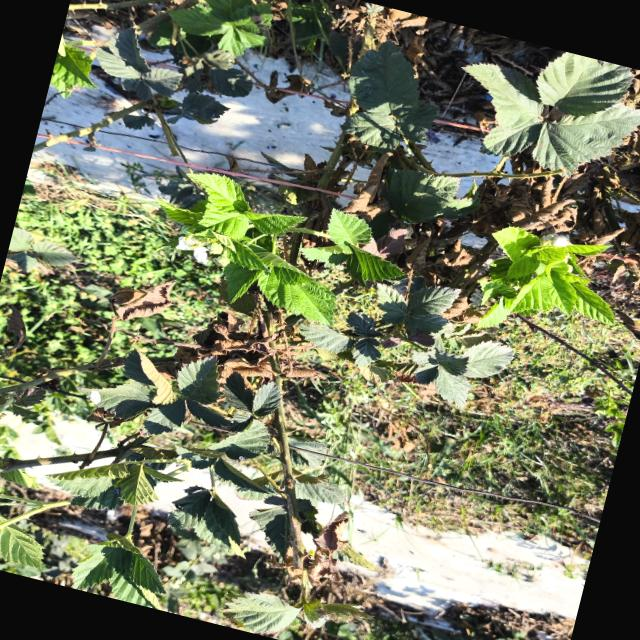boton: (215, 254, 229, 267), (208, 242, 223, 254)
flor: (175, 235, 208, 263)
